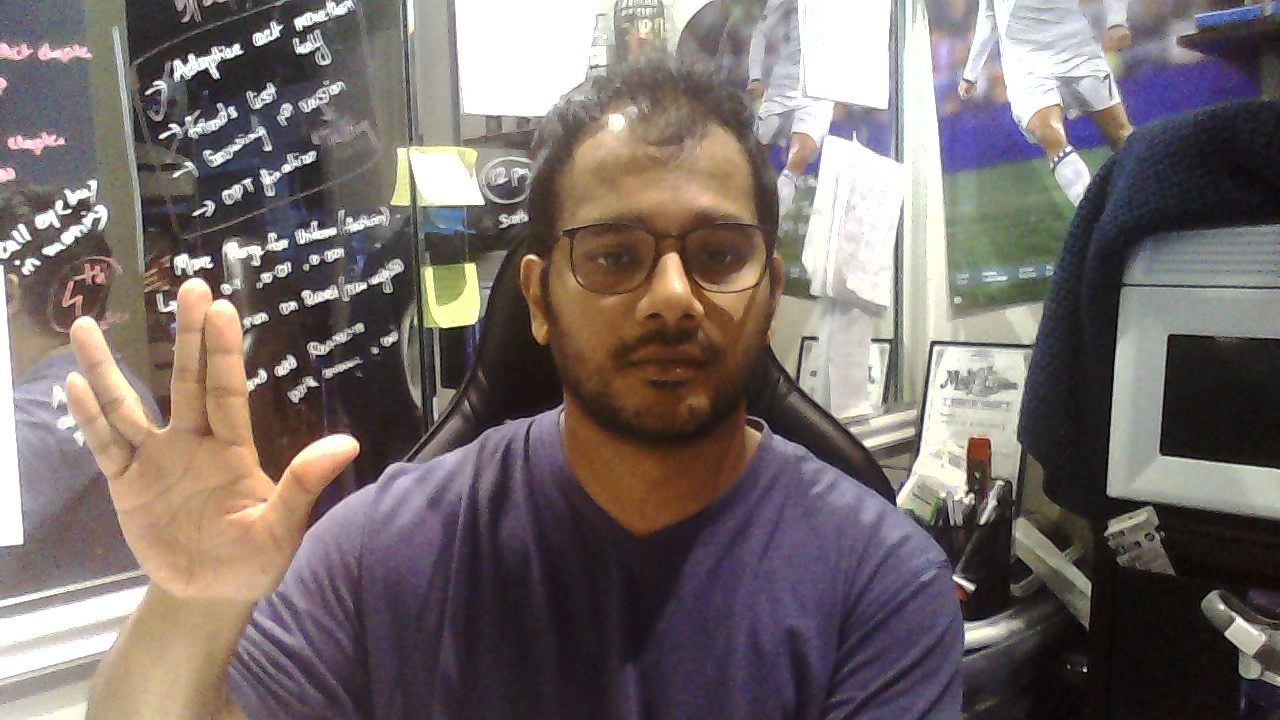LiveLong: (64, 278, 359, 600)
